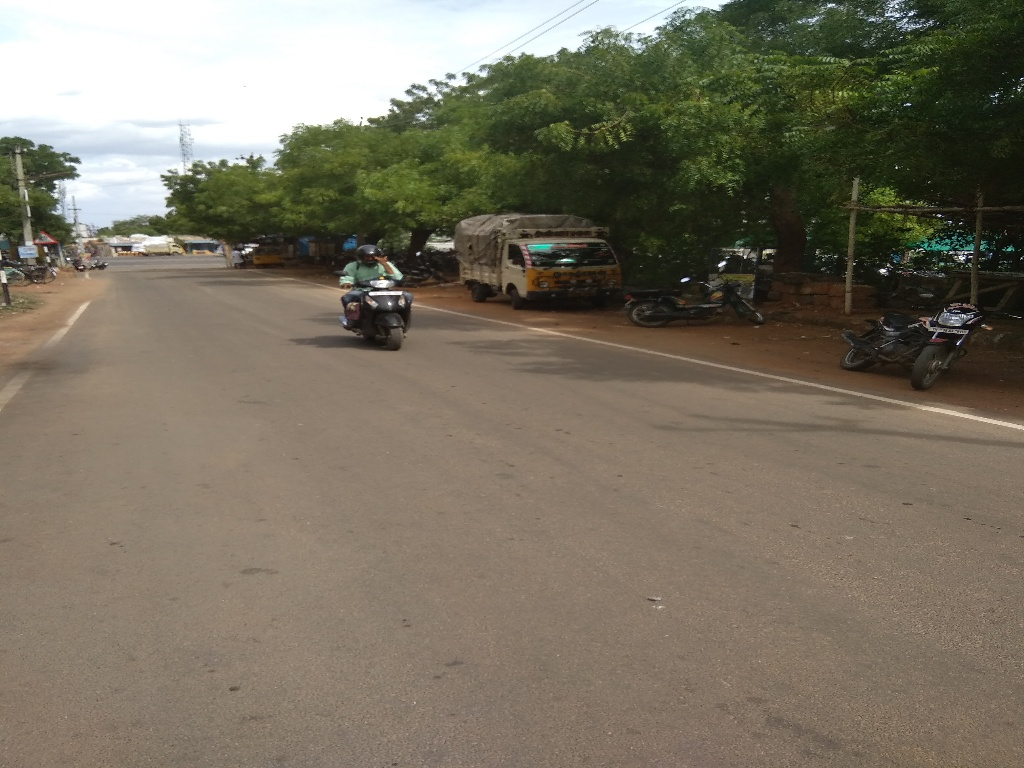biker: (324, 205, 440, 356)
helmet: (348, 234, 396, 276)
